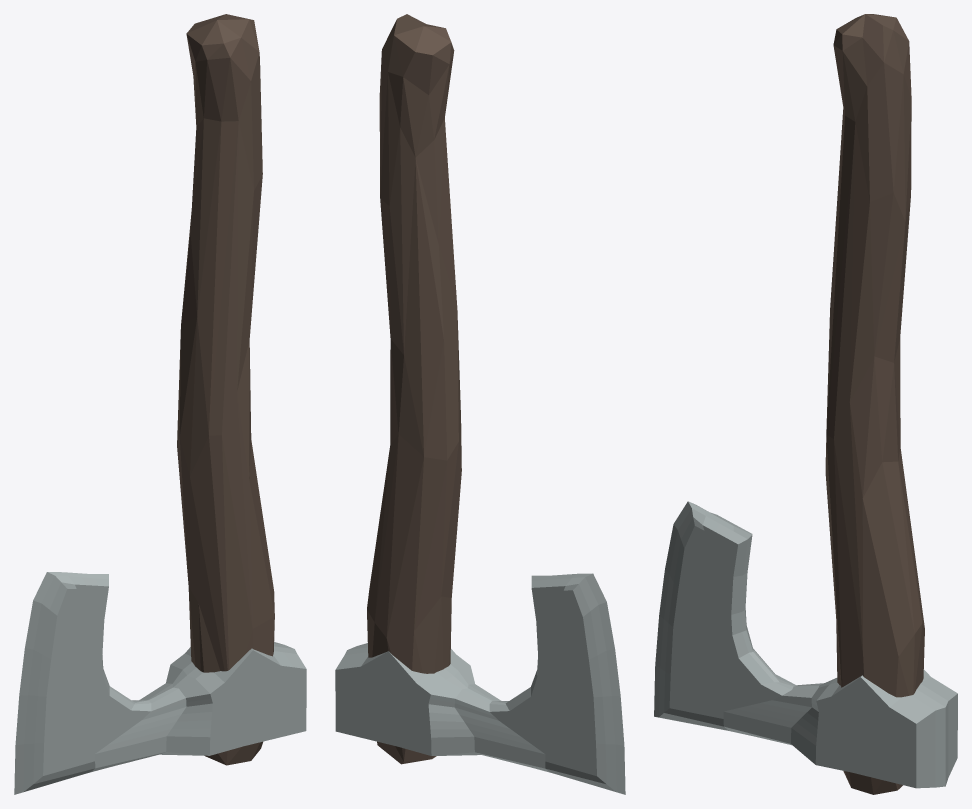
Rendered from axe2.fbx.
3 views of the same model, side by side, from view 1: azimuth 30°, elevation 25°; view 2: azimuth 150°, elevation 25°; view 3: azimuth 330°, elevation 25° (orthographic). The views are drawn at different scales.
Parts seen in each view (by area): view 1: axe2; view 2: axe2; view 3: axe2.
Boxes of the visible parts, x1,y1,x2,y2 form: axe2: (14,14,306,794); axe2: (335,14,625,794); axe2: (654,14,957,794).
Size of the model in its own units: 64.19 by 161 by 16.05.
